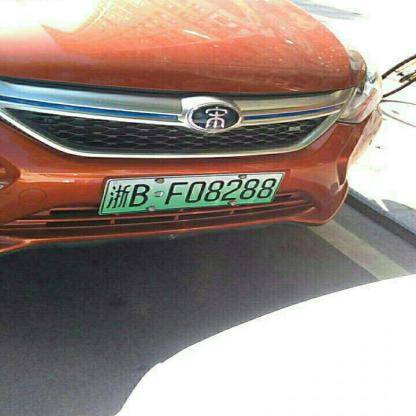lp: (102, 171, 286, 215)
